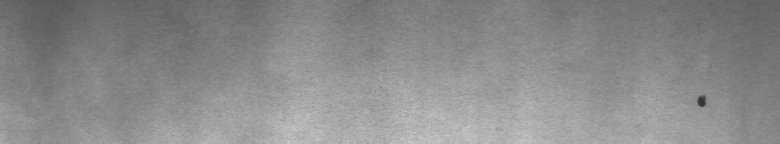fi: (692, 88, 712, 116)
